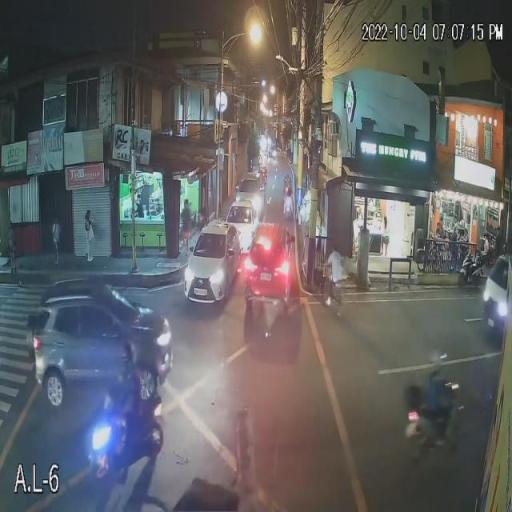helmet: (428, 344, 449, 372), (118, 340, 138, 368)
motorcycle: (79, 388, 168, 476), (410, 383, 464, 451)
rider: (111, 338, 144, 422), (425, 341, 454, 409)
